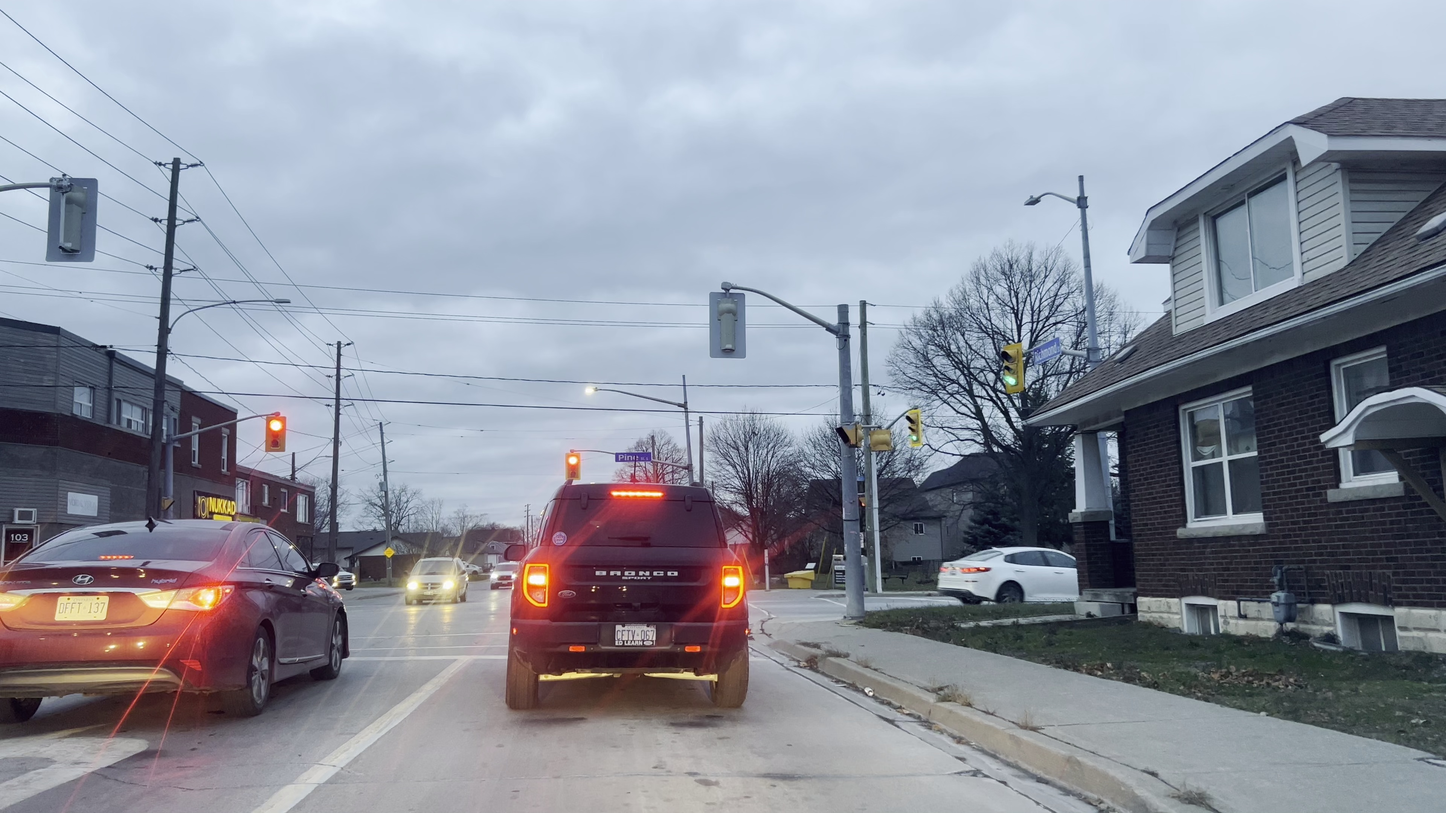cracks: (953, 763, 994, 787)
